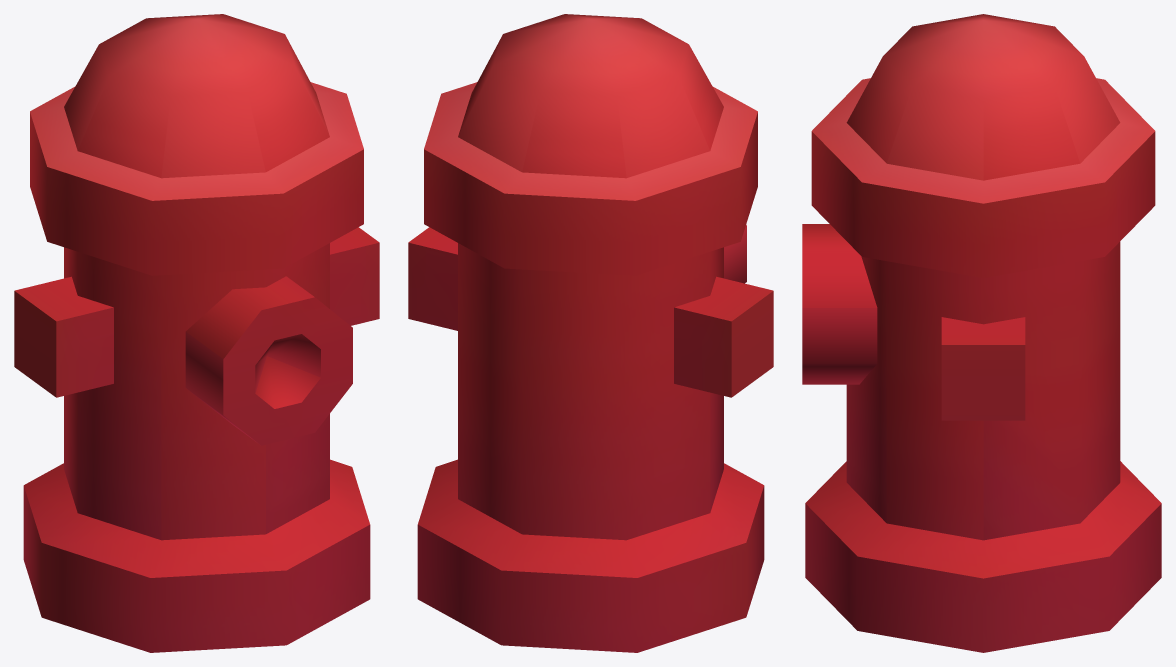
File: firehydrant.glb
3 views of the same model, side by side, from view 1: azimuth 30°, elevation 25°; view 2: azimuth 150°, elevation 25°; view 3: azimuth 270°, elevation 25° (orthographic).
Visible parts, largest first — view 1: firehydrant; view 2: firehydrant; view 3: firehydrant.
Boxes of the visible parts, left/top/right/bottom form: firehydrant: left=14, top=14, right=379, bottom=652; firehydrant: left=408, top=14, right=773, bottom=652; firehydrant: left=802, top=14, right=1161, bottom=652.
Size of the model in its own units: 0.1355 by 0.2246 by 0.1313.
Materials: 1 (1 with a texture image).
